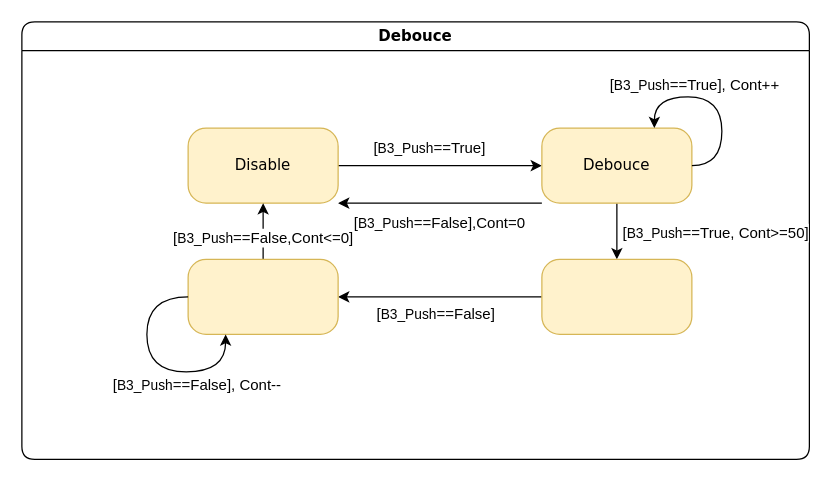
Some shapes in this 831 by 481 pixel diagram are drawn without their labels. Each missing label, with the box of its shape:
Deboucing: (187, 258, 338, 334)
Enable: (541, 258, 692, 334)
